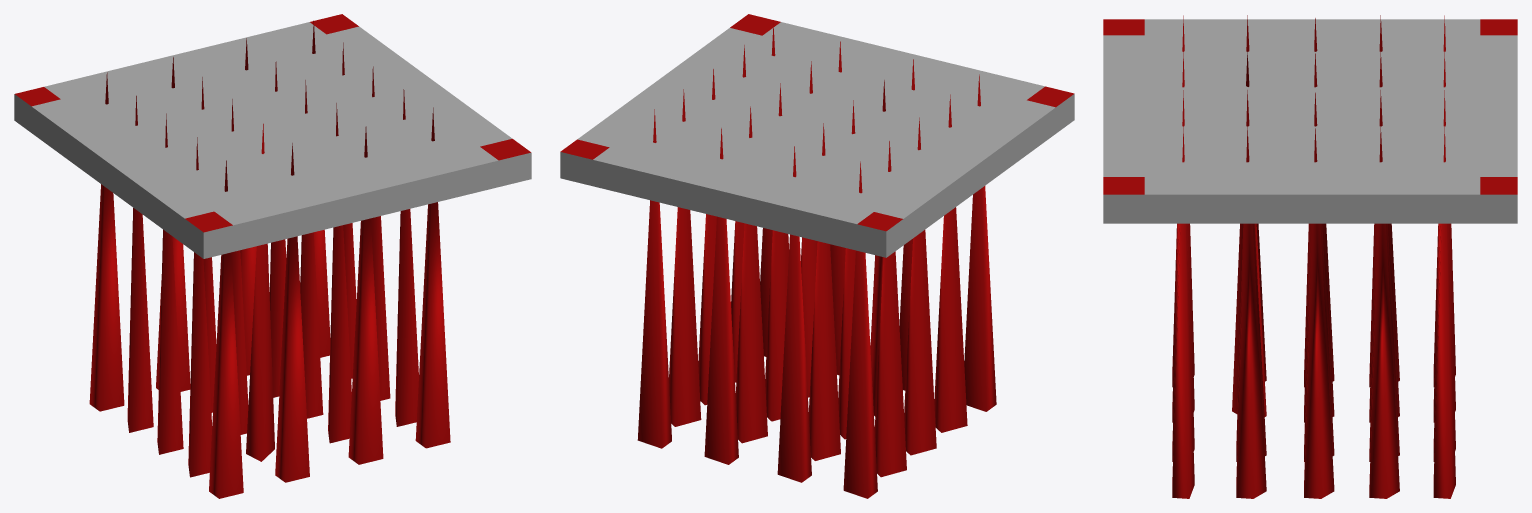
The model's file is SpikesNBase.fbx.
3 views of the same model, side by side, from view 1: azimuth 30°, elevation 25°; view 2: azimuth 150°, elevation 25°; view 3: azimuth 270°, elevation 25° (orthographic). The views are drawn at different scales.
Visible parts, largest first — view 1: Spike_Base, Spikes; view 2: Spikes, Spike_Base; view 3: Spike_Base, Spikes.
Part boxes in pixels (<box>): Spike_Base: <box>14,14,531,258</box>; Spikes: <box>89,20,450,498</box>; Spikes: <box>637,22,996,498</box>; Spike_Base: <box>560,14,1074,257</box>; Spike_Base: <box>1103,19,1517,223</box>; Spikes: <box>1172,15,1455,498</box>.
Size of the model in its own units: 12.06 by 11.77 by 12.06.
